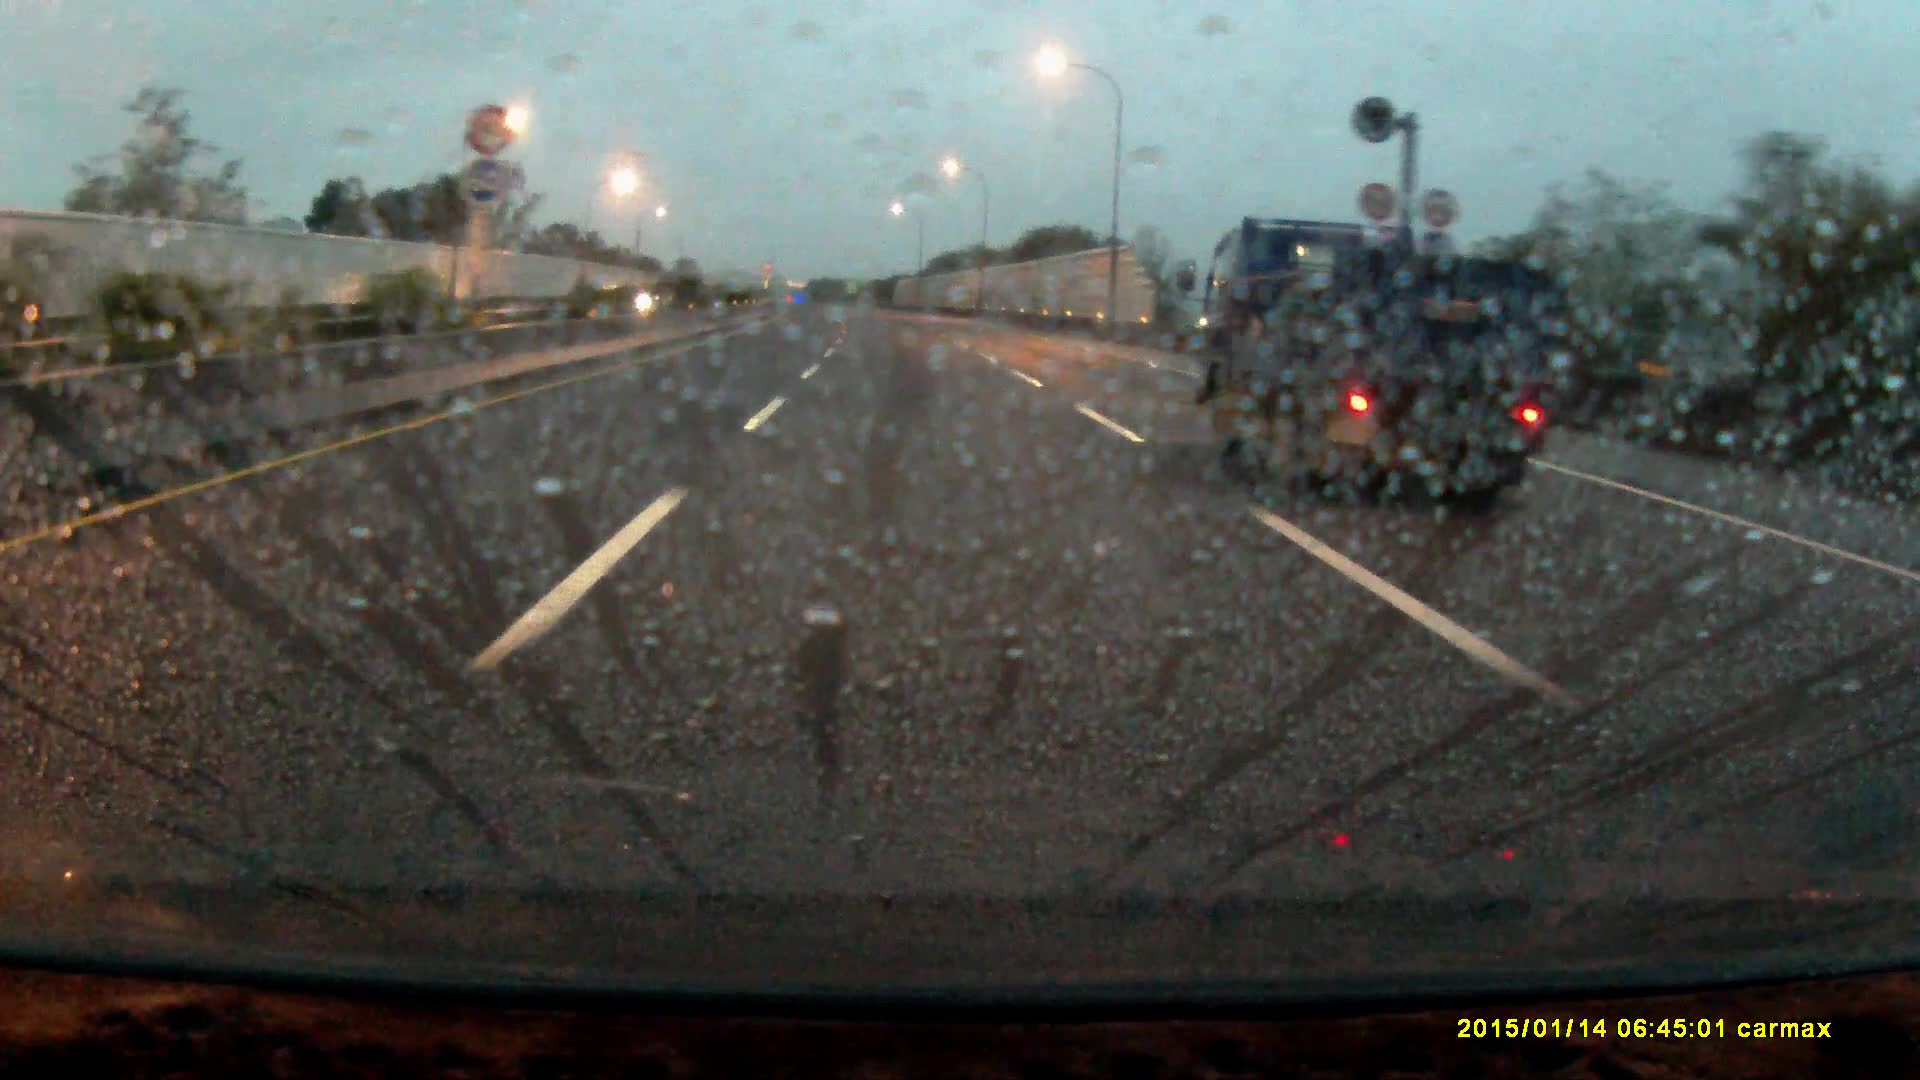vehicle: (1209, 204, 1600, 526)
